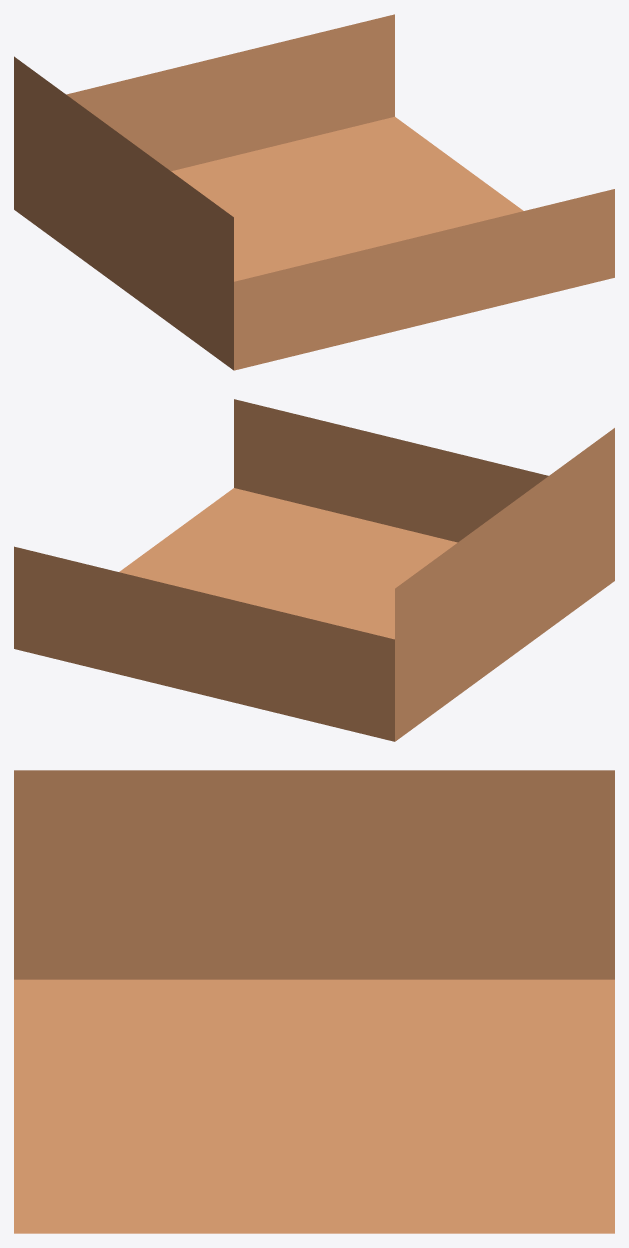
The picture shows the model from 3 angles, top to bottom: view 1: azimuth 30°, elevation 25°; view 2: azimuth 150°, elevation 25°; view 3: azimuth 270°, elevation 25°; orthographic projection. The views are drawn at different scales.
Visible parts, largest first — view 1: Plane; view 2: Plane; view 3: Plane.
Part boxes in pixels (x1=…): Plane: x1=14, y1=14, x2=614, y2=370; Plane: x1=14, y1=399, x2=614, y2=741; Plane: x1=14, y1=770, x2=614, y2=1233.
Size of the model in its own units: 39.74 by 15.28 by 39.74.
